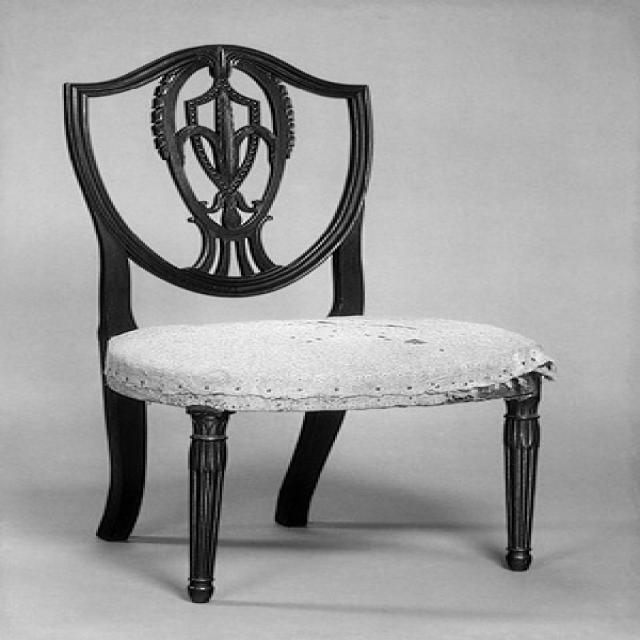chair: (59, 44, 554, 606)
